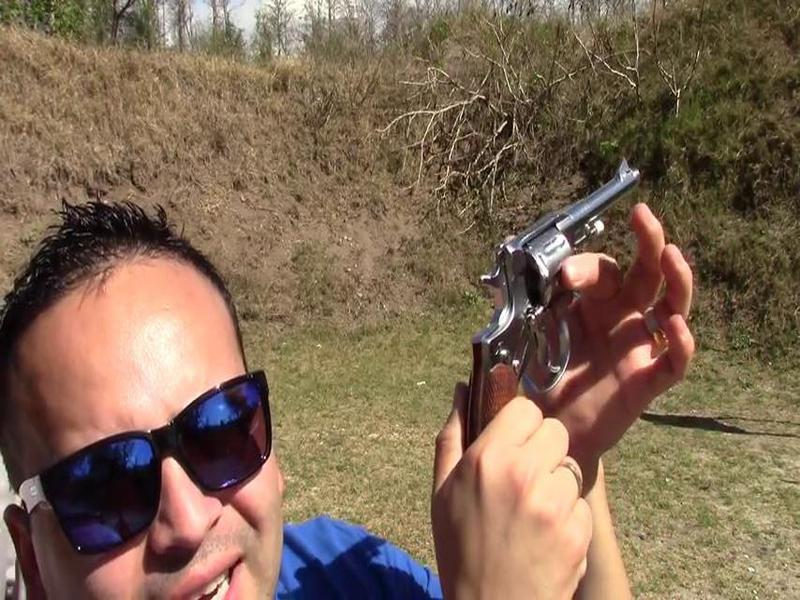Revolver: (457, 146, 665, 451)
